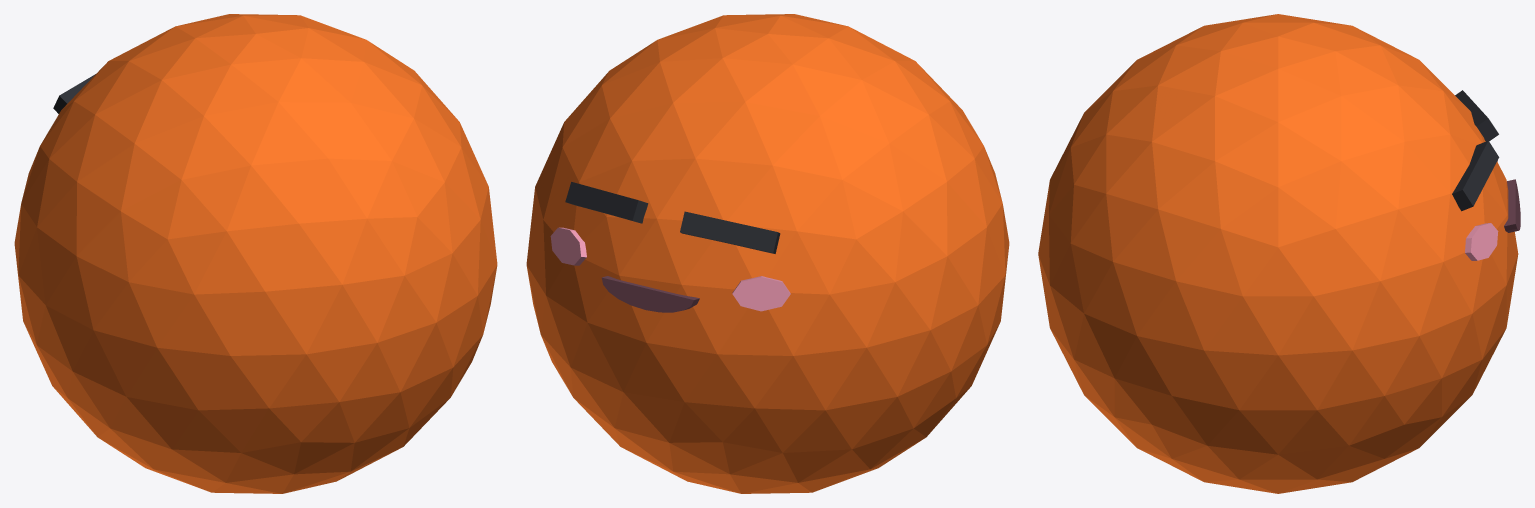
The model's file is CH_Topik_T2_Blink.fbx.
3 views of the same model, side by side, from view 1: azimuth 30°, elevation 25°; view 2: azimuth 150°, elevation 25°; view 3: azimuth 270°, elevation 25° (orthographic).
Visible parts, largest first — view 1: CH_Topik_T2_Blink; view 2: CH_Topik_T2_Blink; view 3: CH_Topik_T2_Blink.
Part boxes in pixels (bbox=[...]): CH_Topik_T2_Blink: bbox=[14, 14, 497, 493]; CH_Topik_T2_Blink: bbox=[526, 14, 1009, 493]; CH_Topik_T2_Blink: bbox=[1038, 14, 1520, 493].
Bounding box in the file's own units: 1 × 1 × 1.01.
